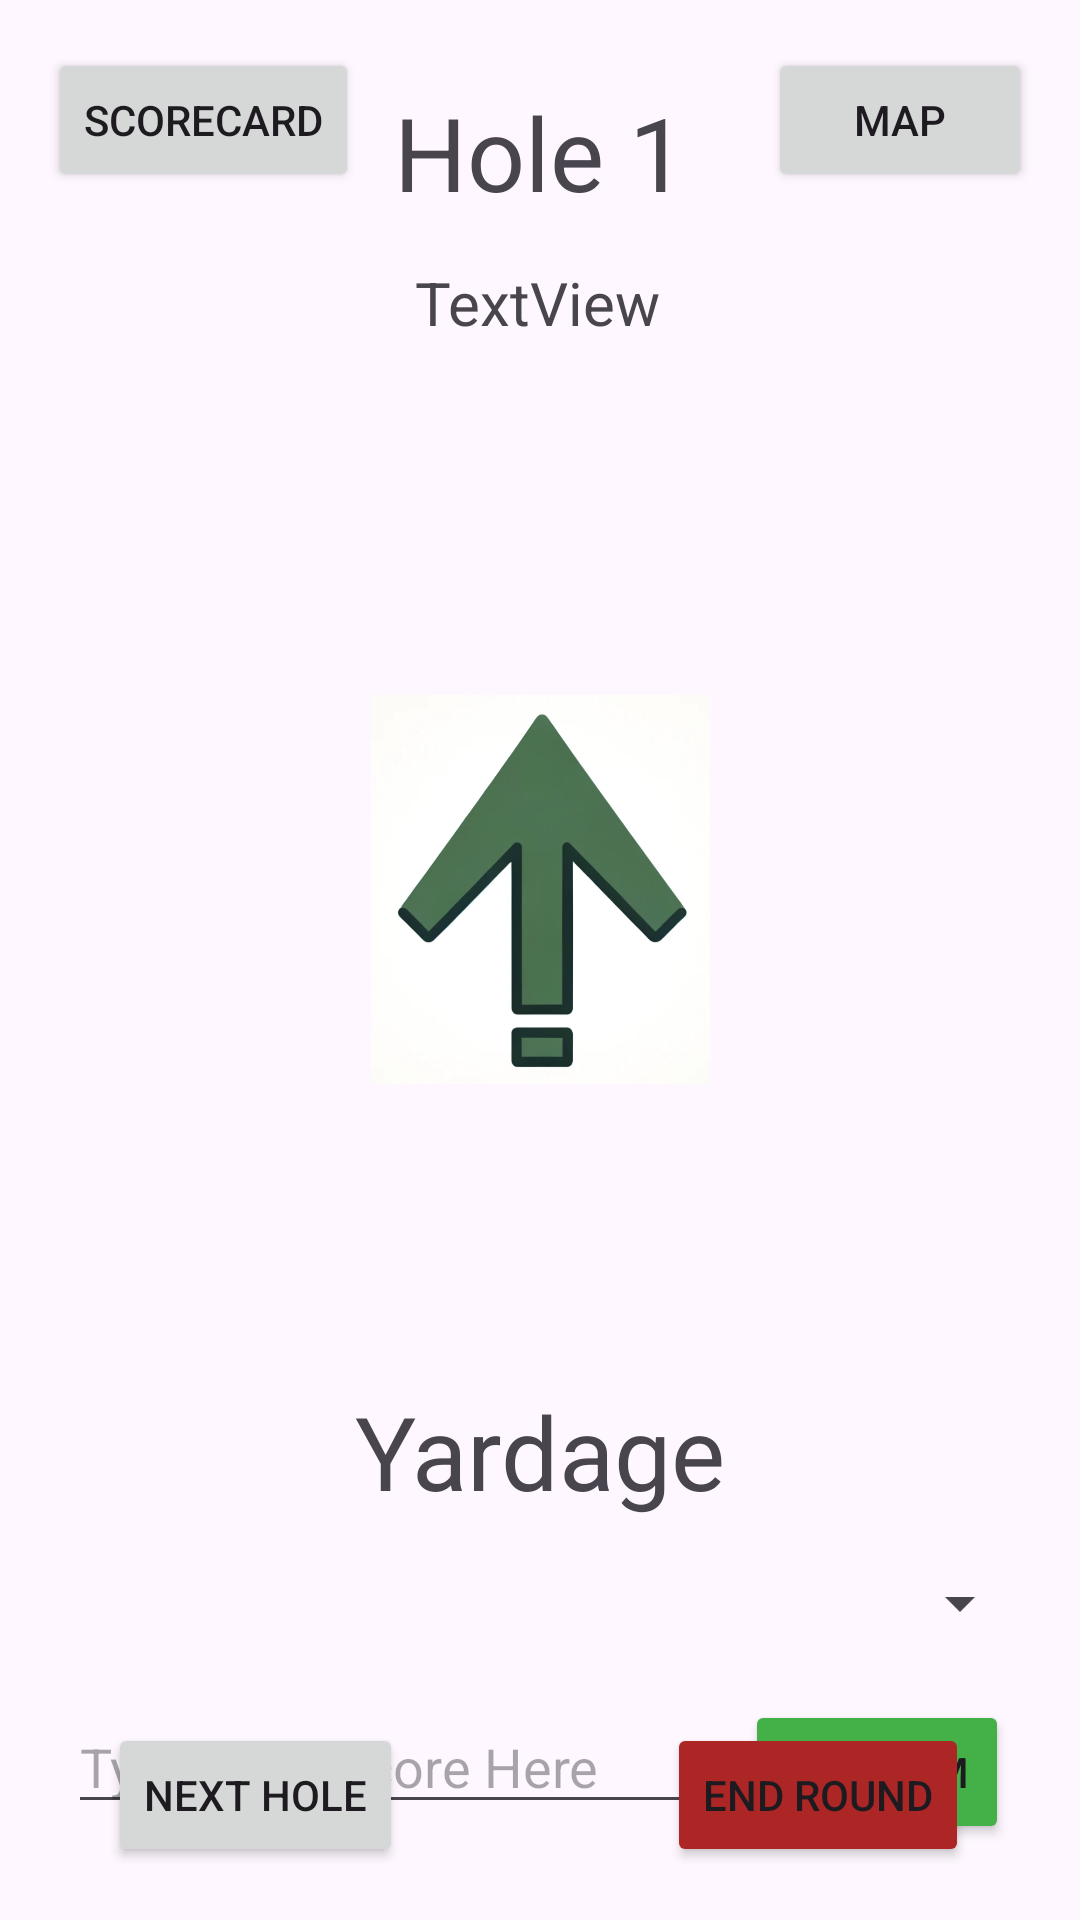

Icons on this 1080 × 1920 Android screen, each with the point to tap as (x,y):
greenarrow: (542,890)
